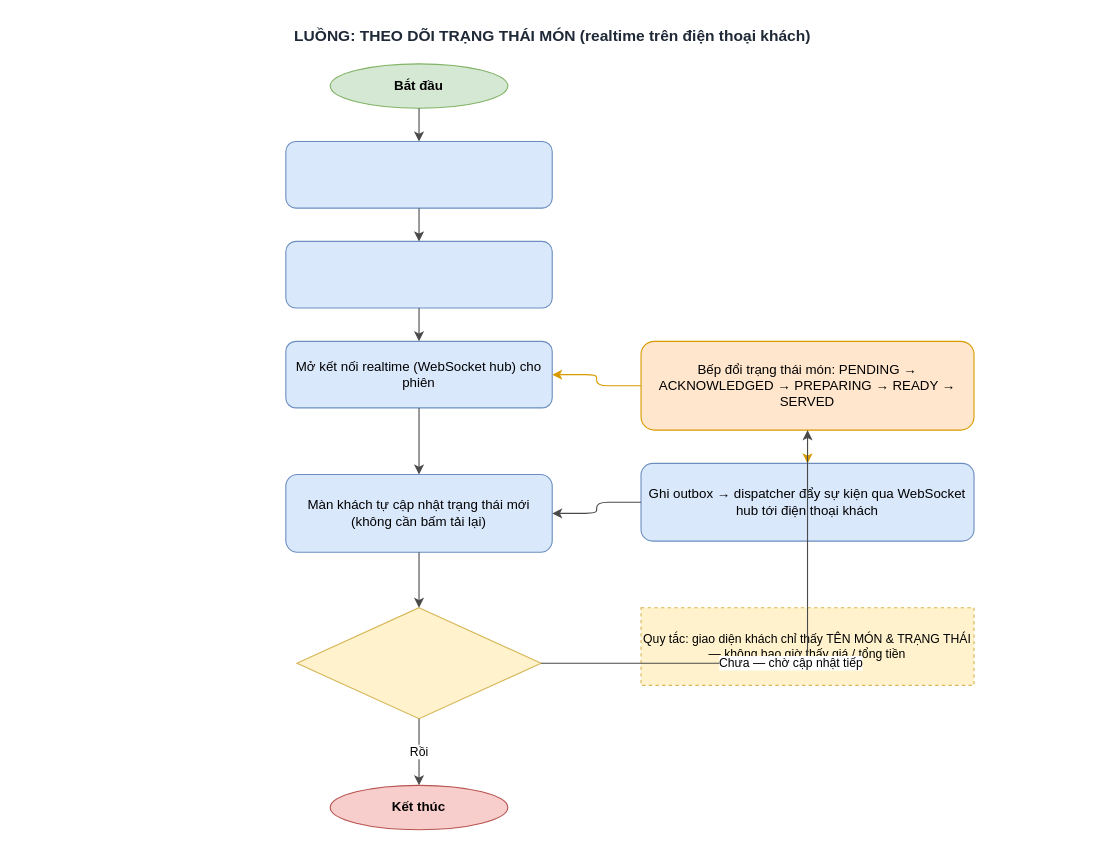
This 1103x849 diagram has some shape labels left out. Each missing label, with the centre of its shape:
Hiển thị danh sách món + trạng thái hiện tại (KHÔNG hiện giá): point 418,274
Khách mở màn theo dõi đơn (GET /customer/orders): point 418,174
Tất cả món đã SERVED?: point 418,663
